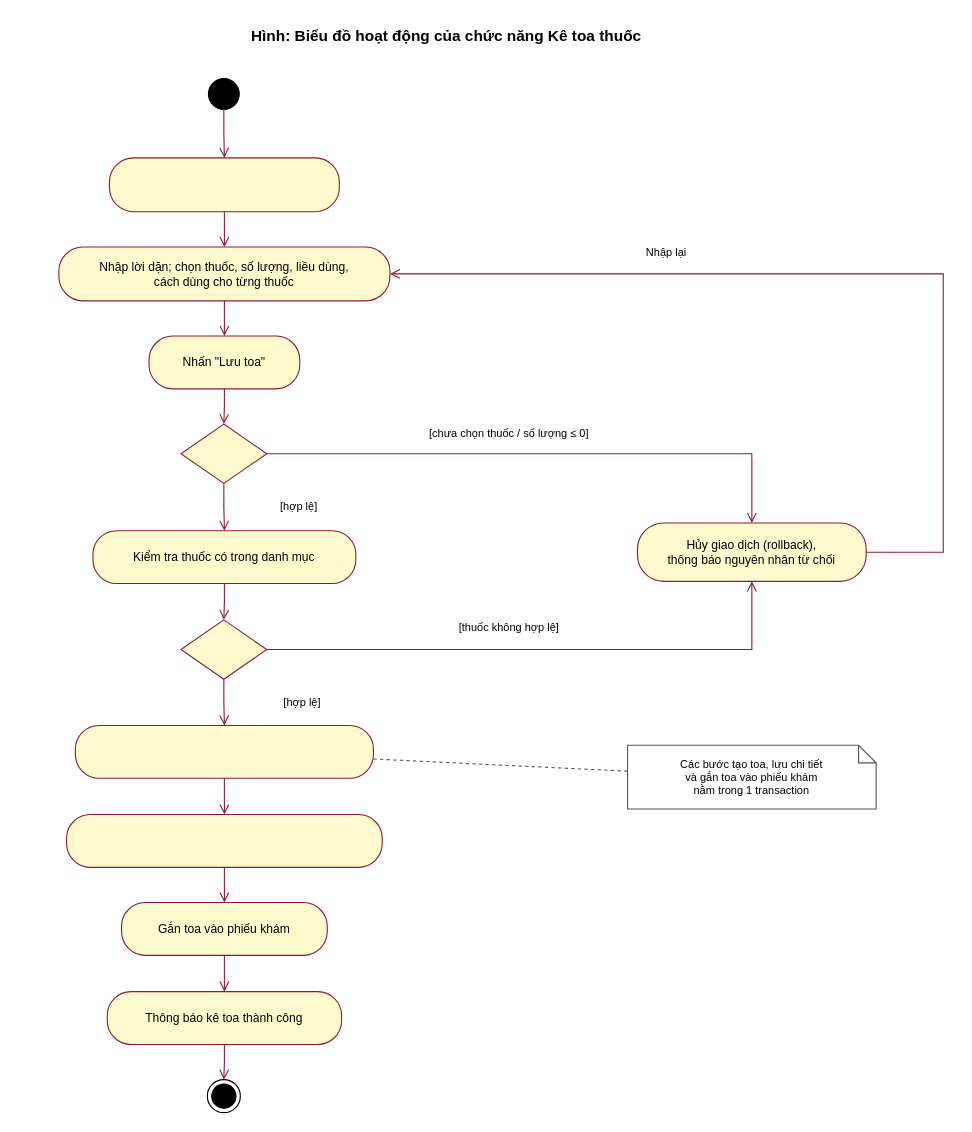
Some shapes in this 972 by 1132 pixel diagram are drawn without their labels. The centre of each missing label's shape, as x and y in pixels:
Chọn phiếu khám cần kê toa: point 223,184
Lưu chi tiết toa (thuốc, số lượng, liều dùng): point 223,840
Tạo toa thuốc (mã toa, ngày kê, lời dặn): point 223,751
